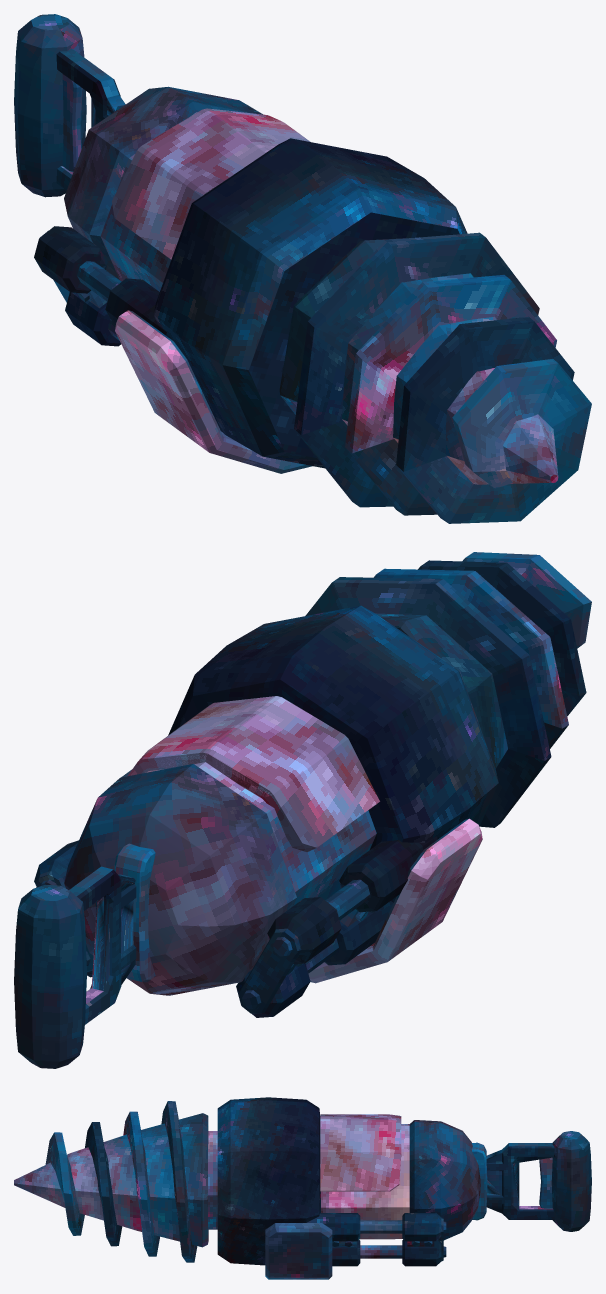
Rendered from item_drill_galaxy.glb.
3 views of the same model, one above another, from view 1: azimuth 30°, elevation 25°; view 2: azimuth 150°, elevation 25°; view 3: azimuth 270°, elevation 25° (orthographic). The views are drawn at different scales.
Visible parts, largest first — view 1: GunPart, Drill; view 2: GunPart, Drill; view 3: GunPart, Drill.
Boxes of the visible parts, left/top/right/bottom form: GunPart: left=14, top=14, right=467, bottom=473; Drill: left=279, top=232, right=591, bottom=523; GunPart: left=14, top=605, right=498, bottom=1068; Drill: left=305, top=552, right=591, bottom=827; GunPart: left=217, top=1097, right=591, bottom=1279; Drill: left=14, top=1101, right=217, bottom=1262.
Bounding box in the file's own units: 0.2887 × 0.2613 × 0.8168.
Materials: 1 (1 with a texture image).
